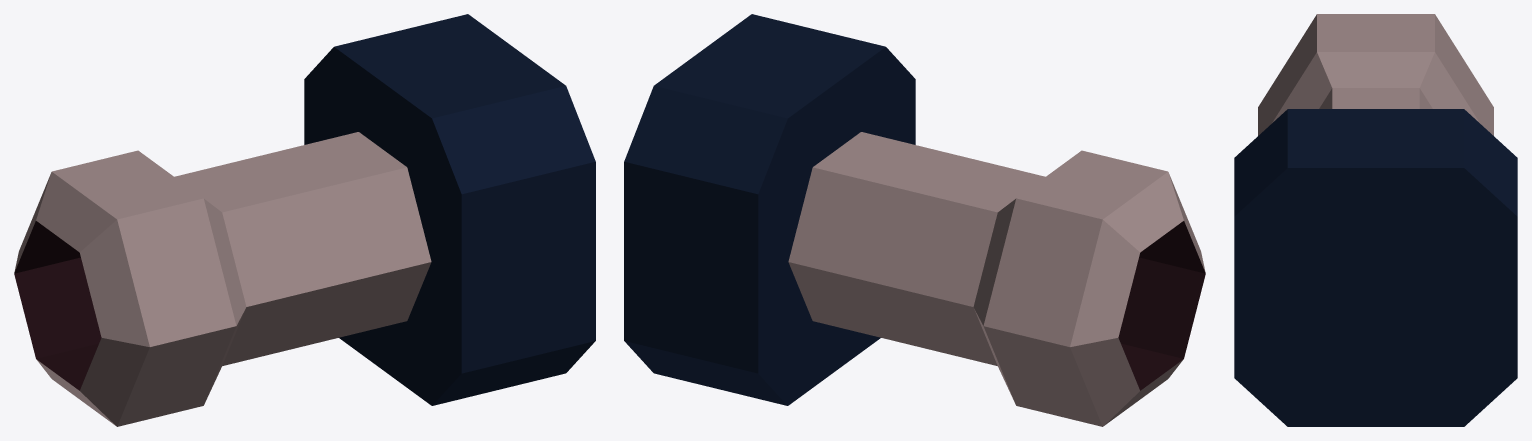
File: Gun.gltf
The picture shows the model from 3 angles, left to right: view 1: azimuth 30°, elevation 25°; view 2: azimuth 150°, elevation 25°; view 3: azimuth 270°, elevation 25°; orthographic projection. The views are drawn at different scales.
Visible parts, largest first — view 1: Gun; view 2: Gun; view 3: Gun.
Part boxes in pixels (x1,y1,x2,y2): Gun: (14, 14, 595, 426); Gun: (624, 14, 1205, 426); Gun: (1234, 14, 1517, 426).
Bounding box in the file's own units: 1.06 × 0.6351 × 0.6299.
